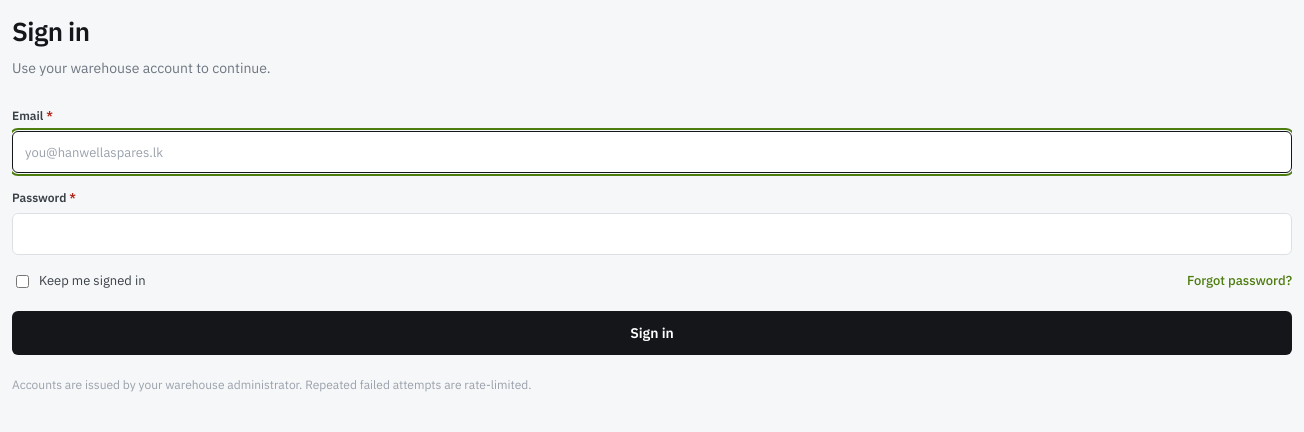
LoginPage › rejects a malformed email before hitting the API
Type "not-an-email" into the field labelled "Email". click: (652, 152)
box: [12,131,1292,173]
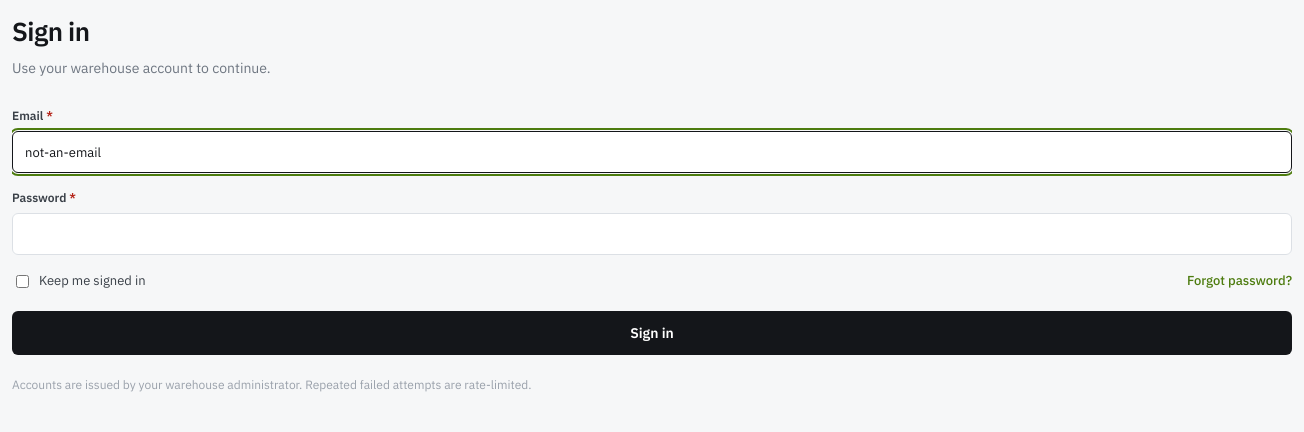
Type "password" into the password field labelled "Password". click: (652, 234)
box: [12,213,1292,255]
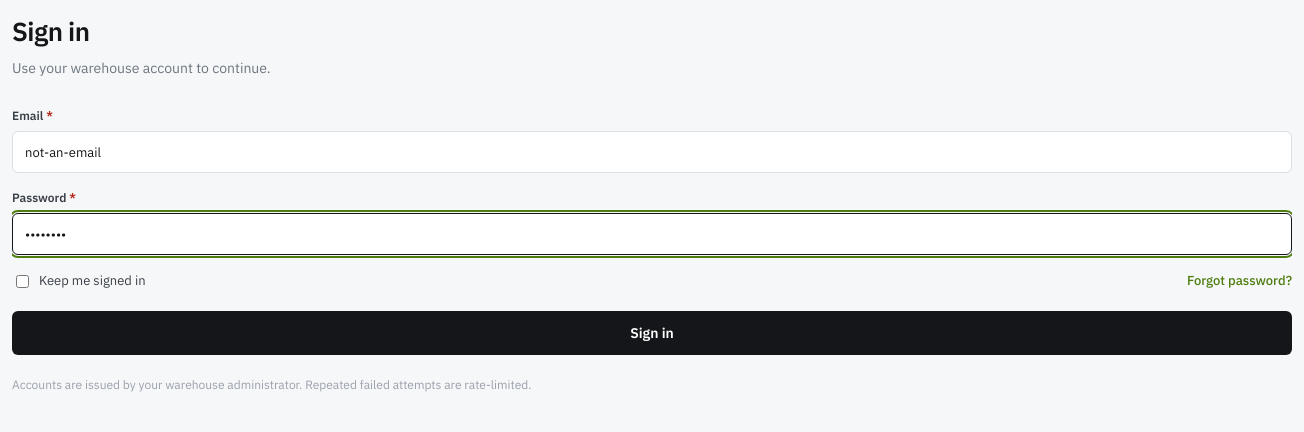
Click the button "Sign in". click: (652, 333)
box: [12,311,1292,355]
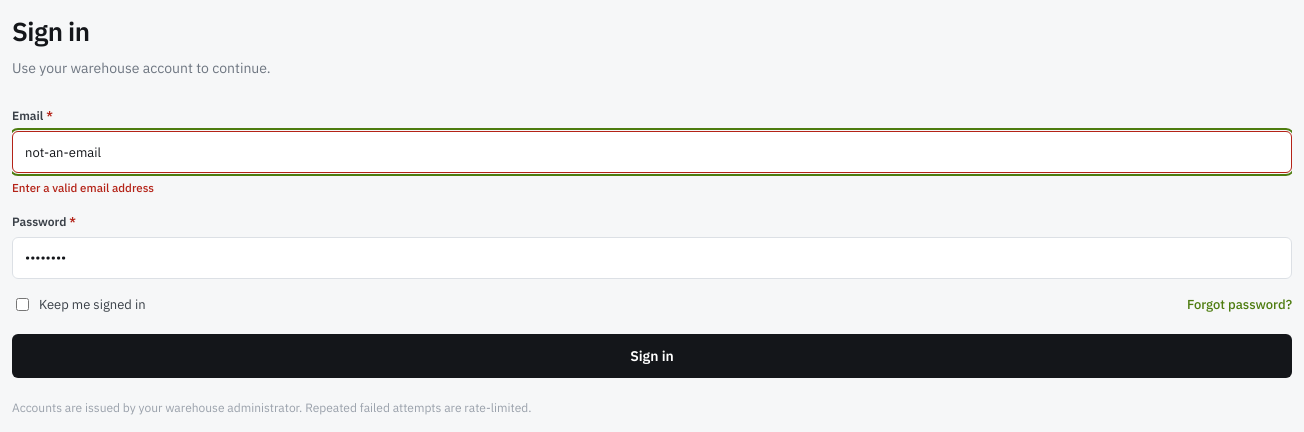
Check: the text "Enter a valid email address" is shown, box [12,180,154,195]
